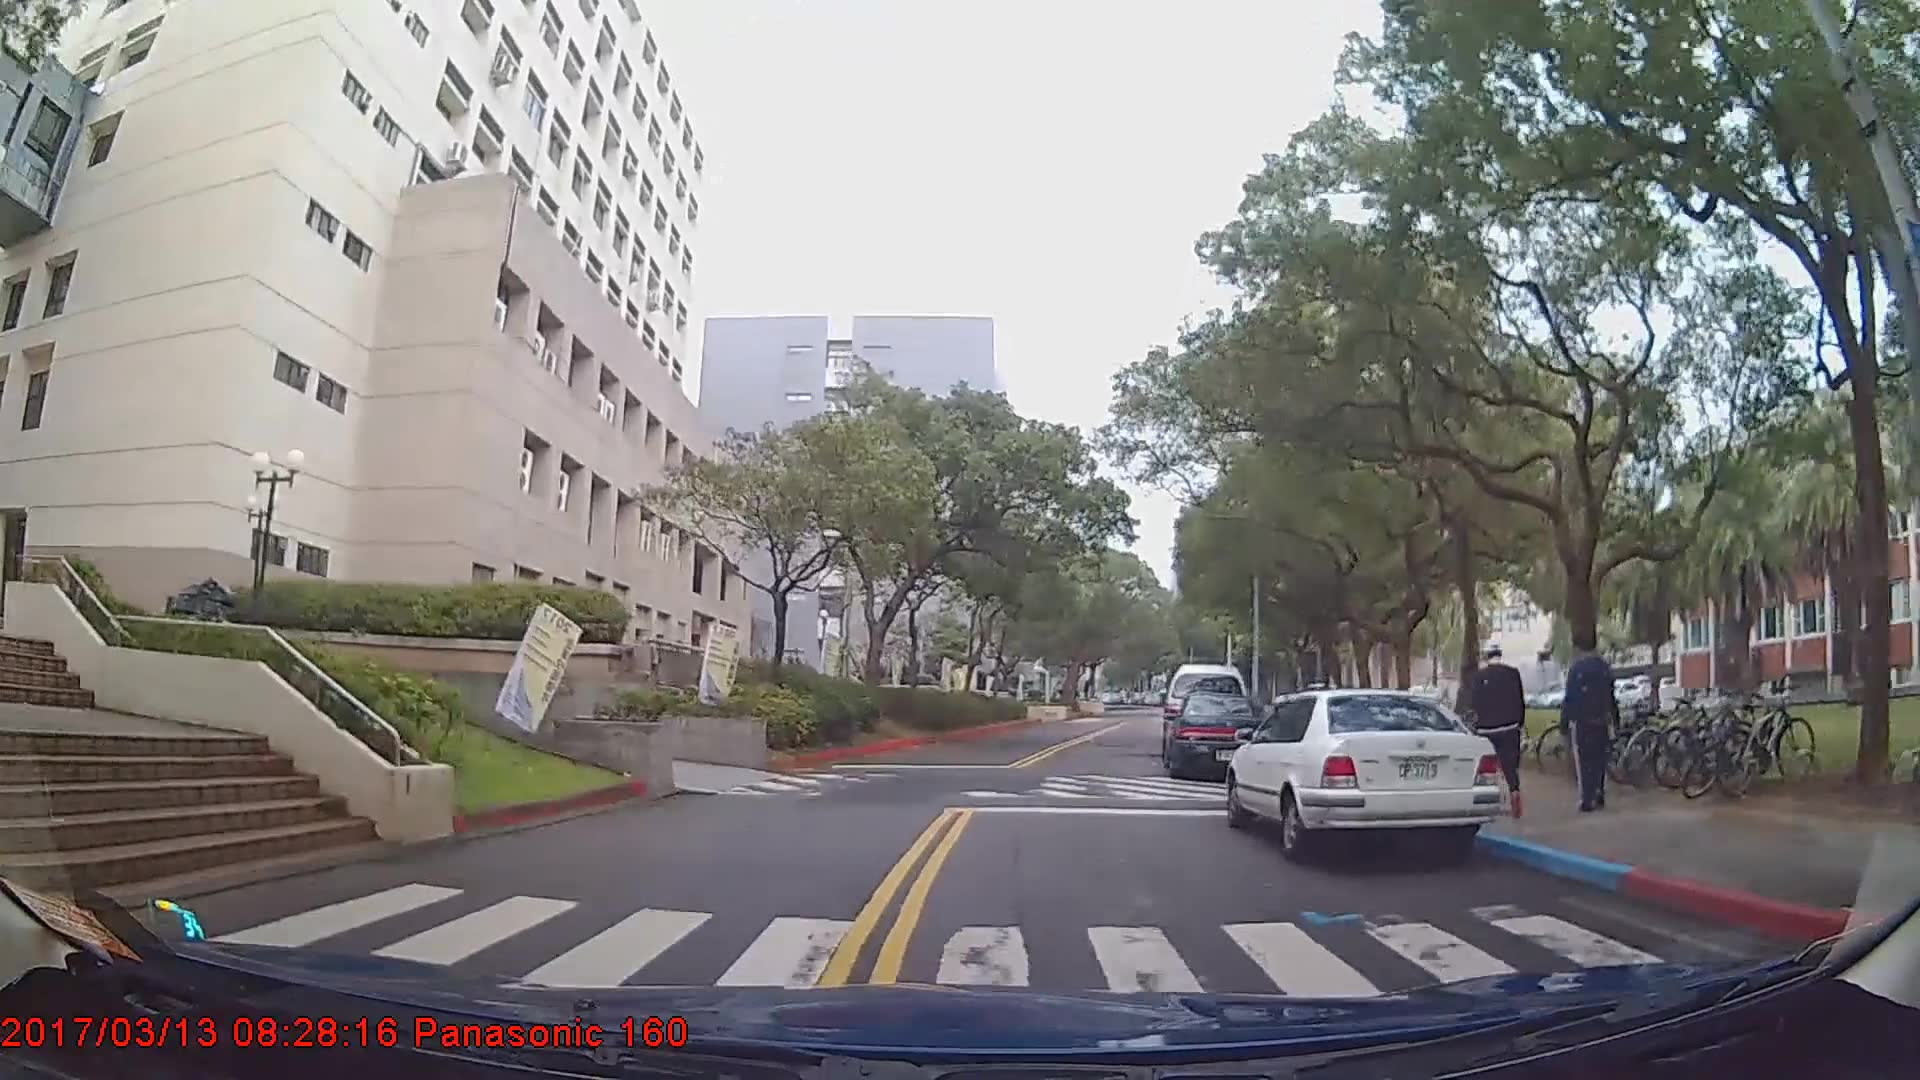pedestrian: (1566, 624, 1626, 816), (1472, 636, 1530, 813)
vehicle: (1226, 685, 1504, 864), (1165, 692, 1274, 780)
